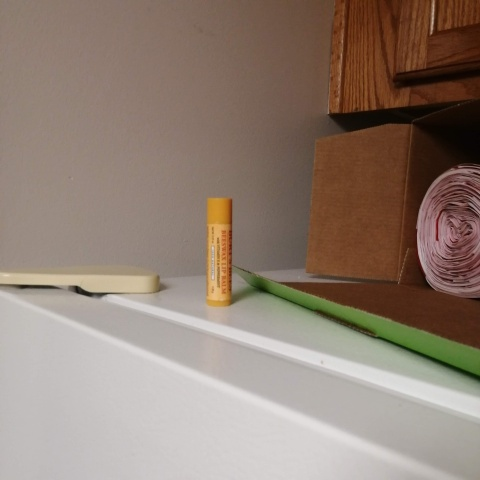chapstick: (204, 194, 235, 309)
